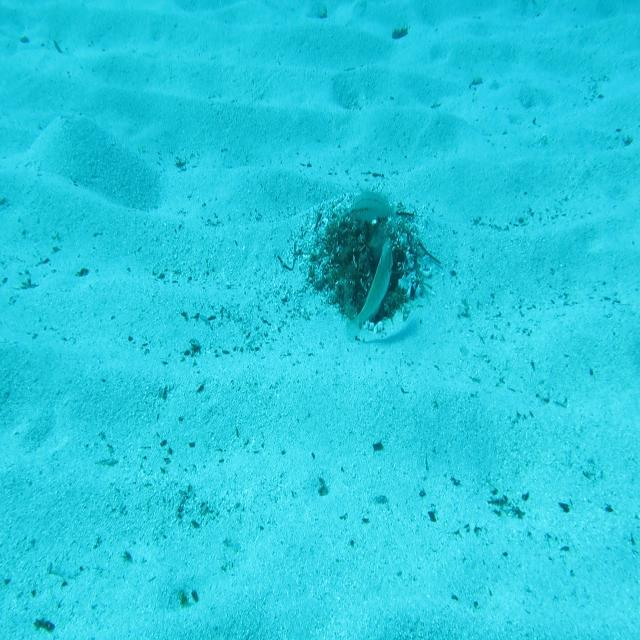GB: (342, 235, 396, 340)
female: (347, 188, 400, 228)
nest: (309, 188, 429, 335)
